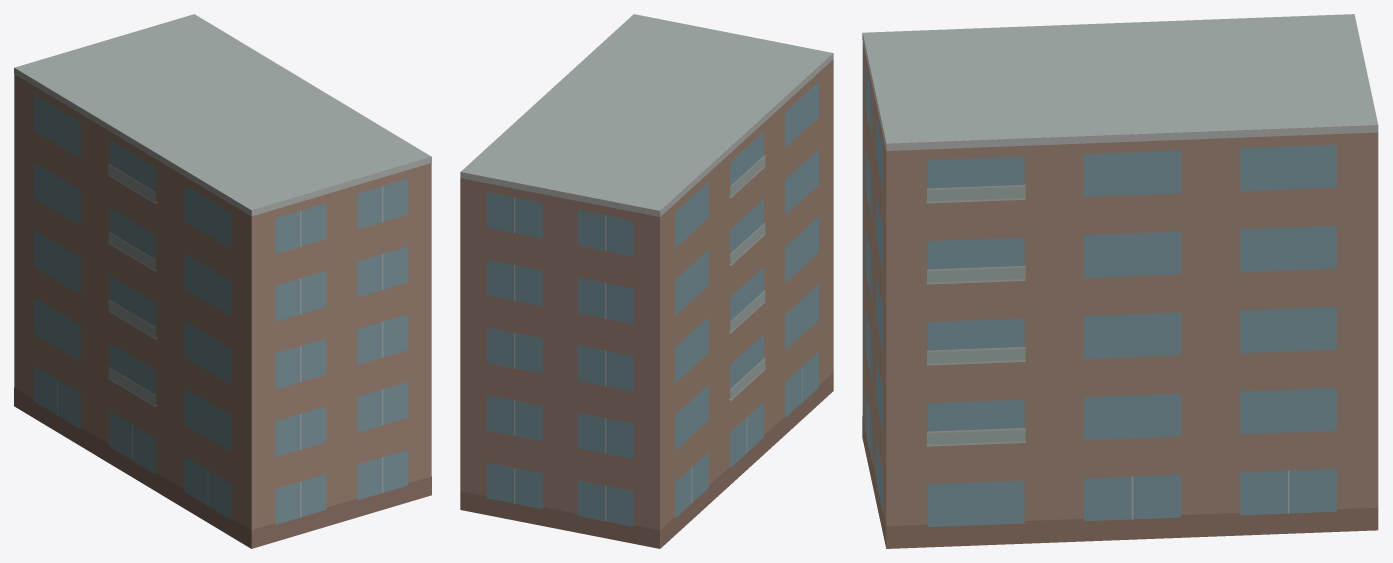
The model's file is survey-upis-32890600.glb.
3 views of the same model, side by side, from view 1: azimuth 30°, elevation 25°; view 2: azimuth 150°, elevation 25°; view 3: azimuth 270°, elevation 25° (orthographic). The views are drawn at different scales.
Parts seen in each view (by area): view 1: survey-upis-32890600.tmp; view 2: survey-upis-32890600.tmp; view 3: survey-upis-32890600.tmp.
Part boxes in pixels (<box>): survey-upis-32890600.tmp: <box>14,14,431,548</box>; survey-upis-32890600.tmp: <box>460,14,833,548</box>; survey-upis-32890600.tmp: <box>862,14,1378,548</box>.
Bounding box in the file's own units: 9.21 × 13.4 × 15.47.
